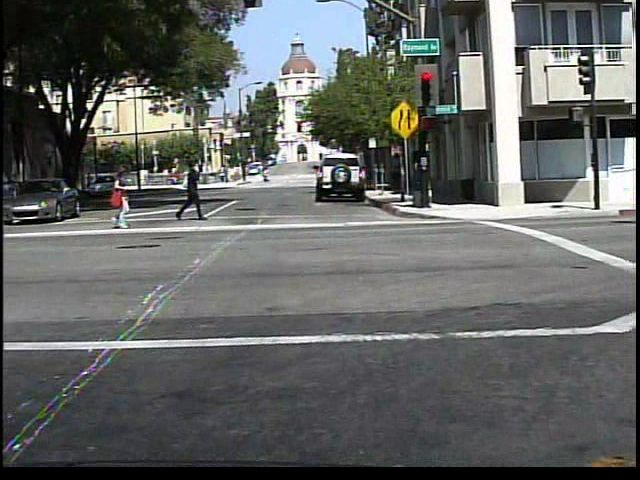person: (169, 158, 207, 223), (100, 162, 135, 232), (264, 167, 265, 185), (262, 168, 263, 185)
